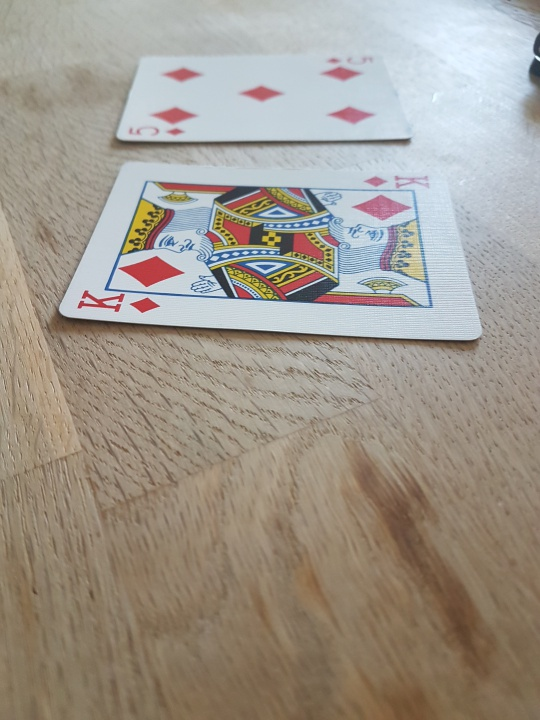5: (97, 40, 422, 151)
king: (49, 152, 497, 357)
